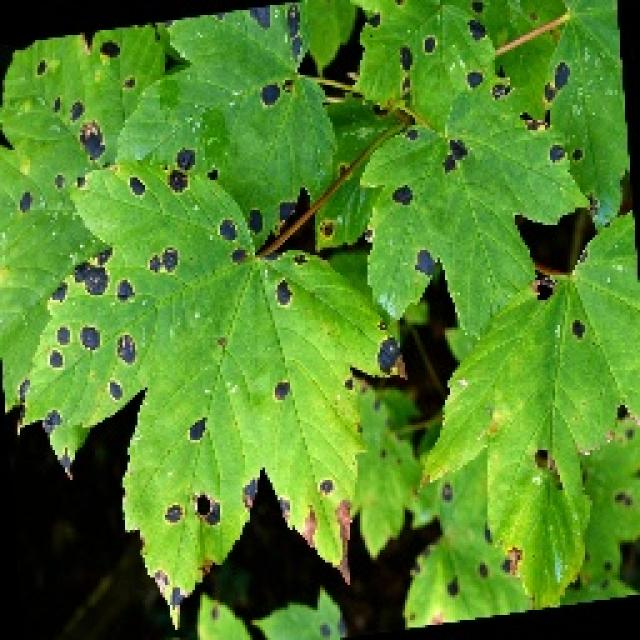Tar_Spot: (4, 27, 628, 632)
